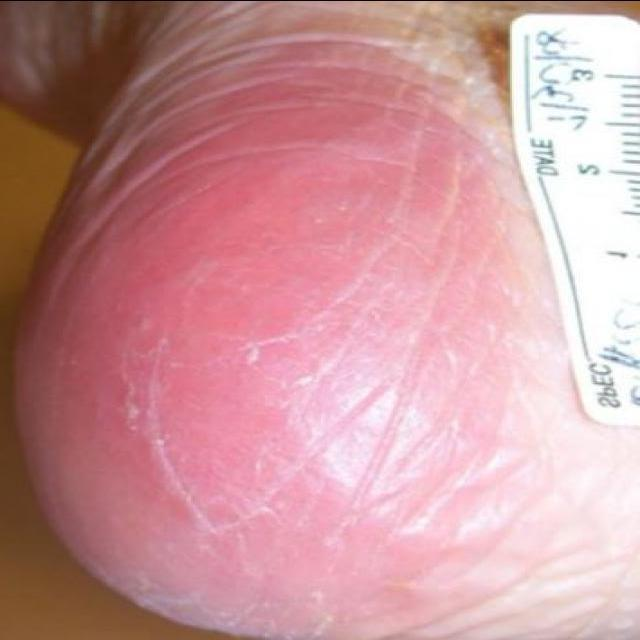stage-1: (13, 56, 505, 627)
